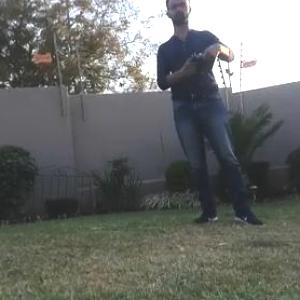follow: (151, 0, 268, 230)
